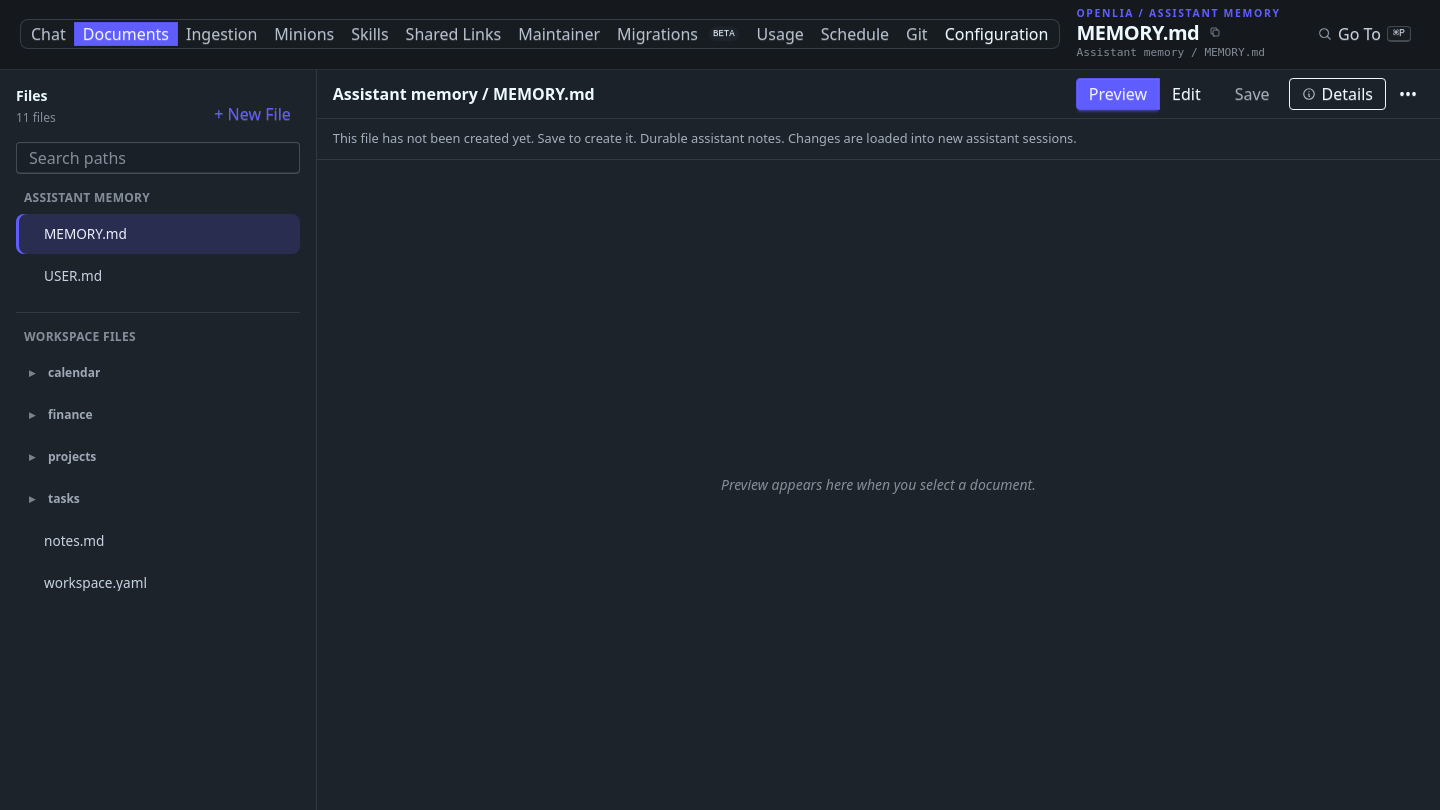
workspace application › shows a missing memory file and creates it on an explicit save
The image size is (1440, 810).
expect the text "This file has not been created yet" is shown: met, box [333,129,640,147]
Click the button "Save" at (1252, 94), box [1222,78,1283,110]
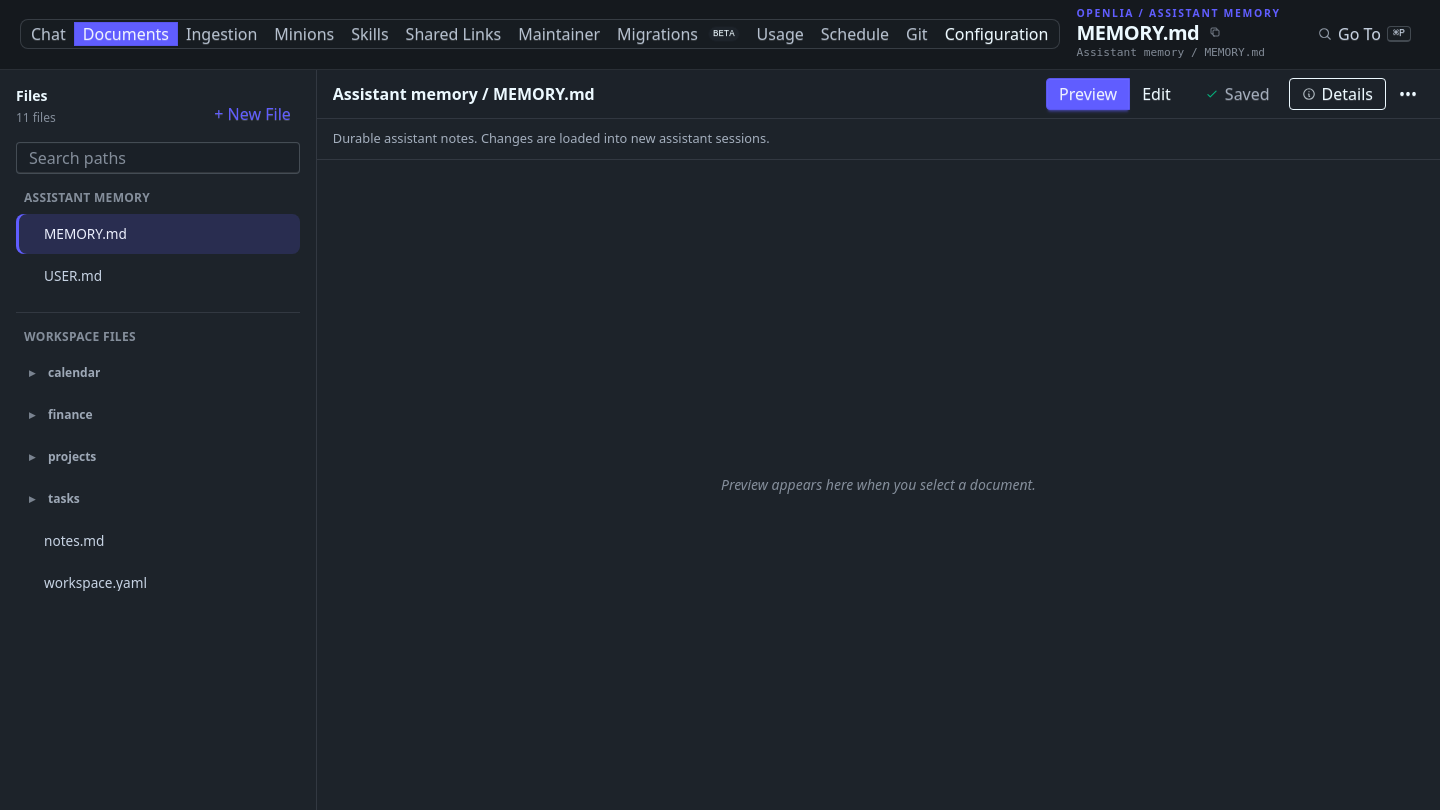
expect the button "Saved" is disabled: met, box [1192,78,1283,110]
expect the text "This file has not been created yet" is gone: met
